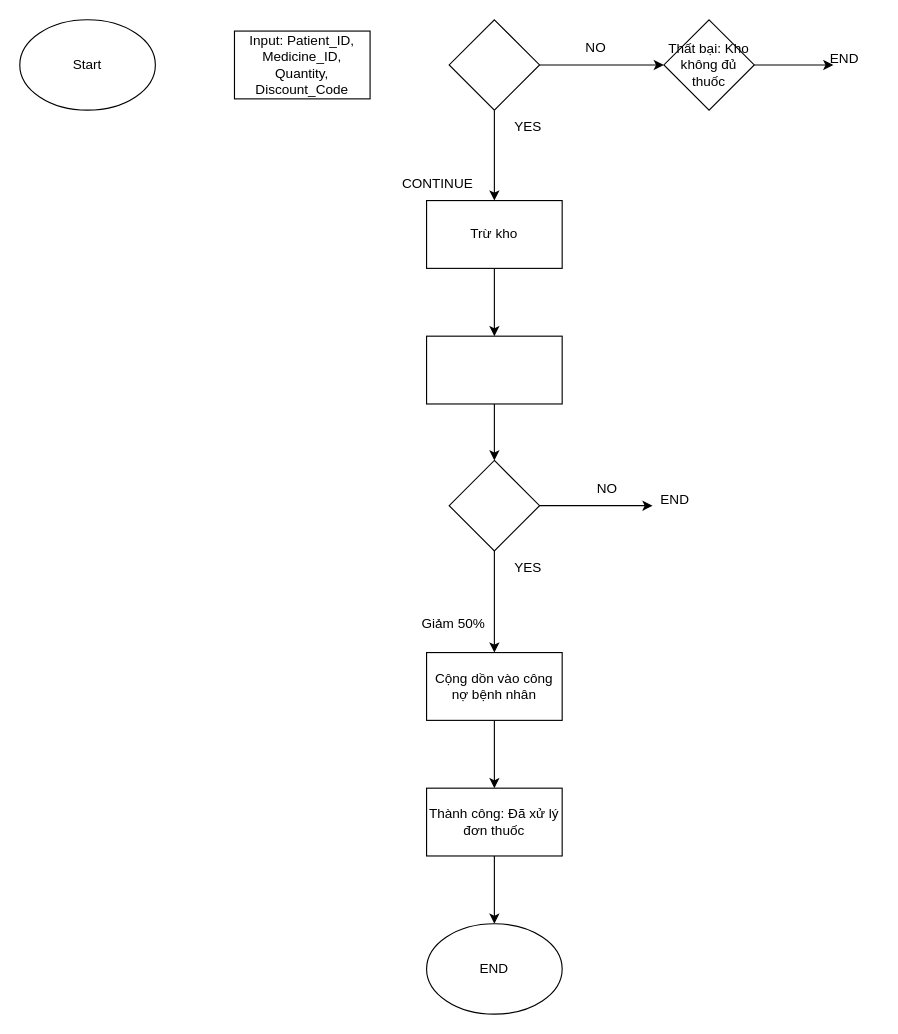
This 898x1034 diagram has some shape labels left out. Here are the shapes that lost their labels. From the top down, the centre of each, then its label:
At point 494,64: "Kho đủ thuốc?".
At point 493,369: "Tính thành tiền".
At point 494,505: "Discount_Code = NV-RIKKEI?".
